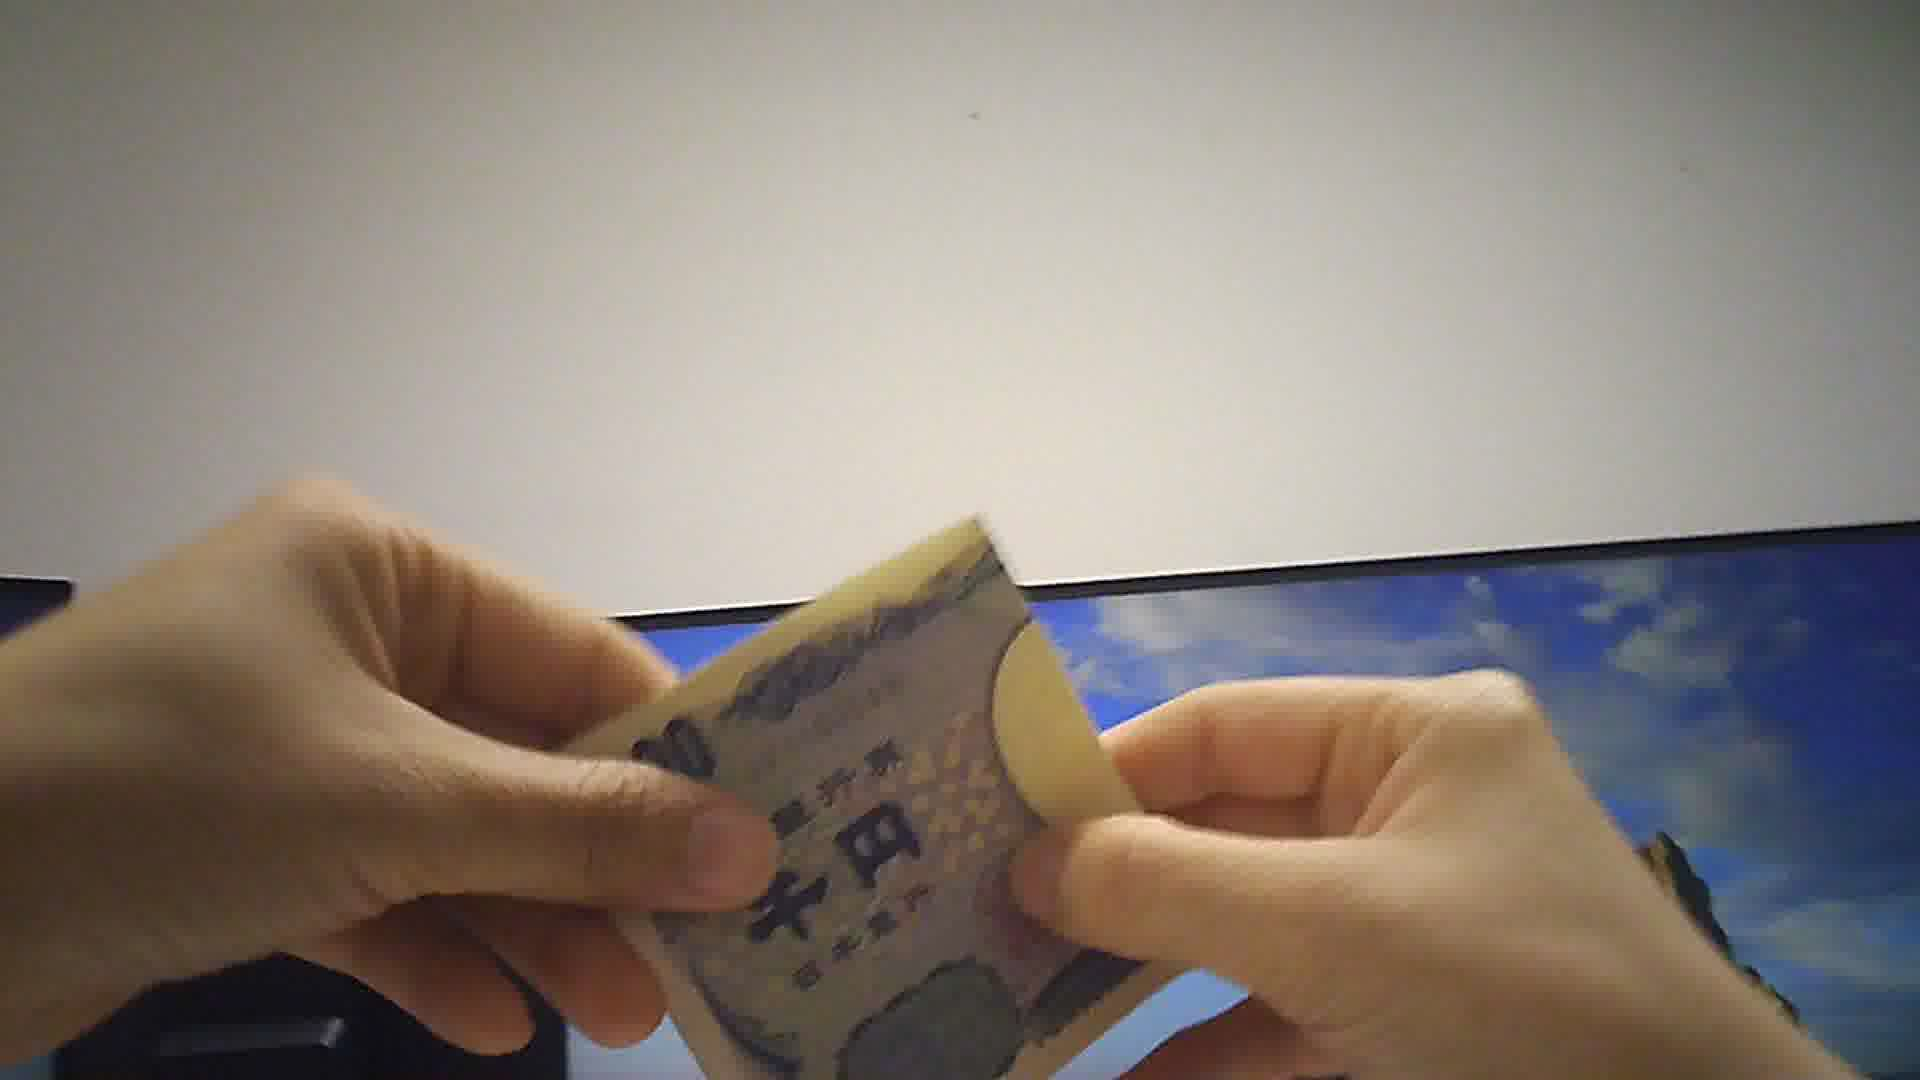1,000 Yen: (553, 520, 1201, 1079)
